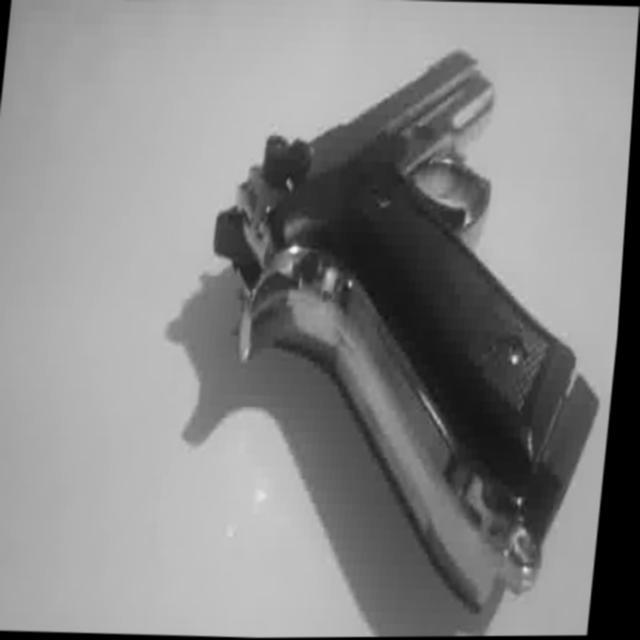weapon: (184, 38, 636, 617)
